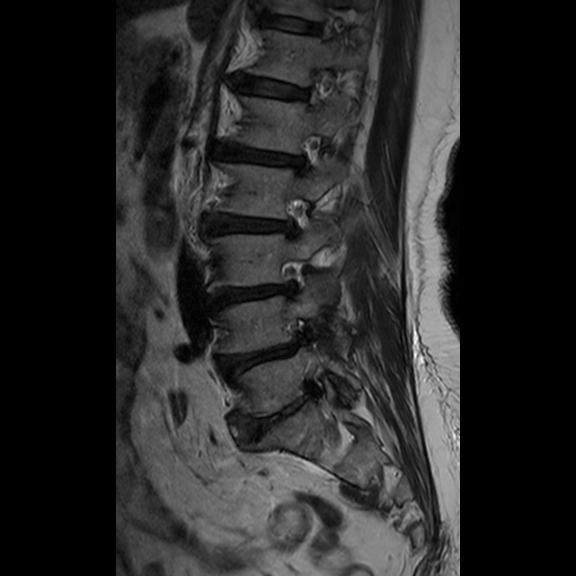RFS0: (284, 125, 327, 182), (273, 190, 312, 250)
RFS1: (271, 250, 317, 304)
